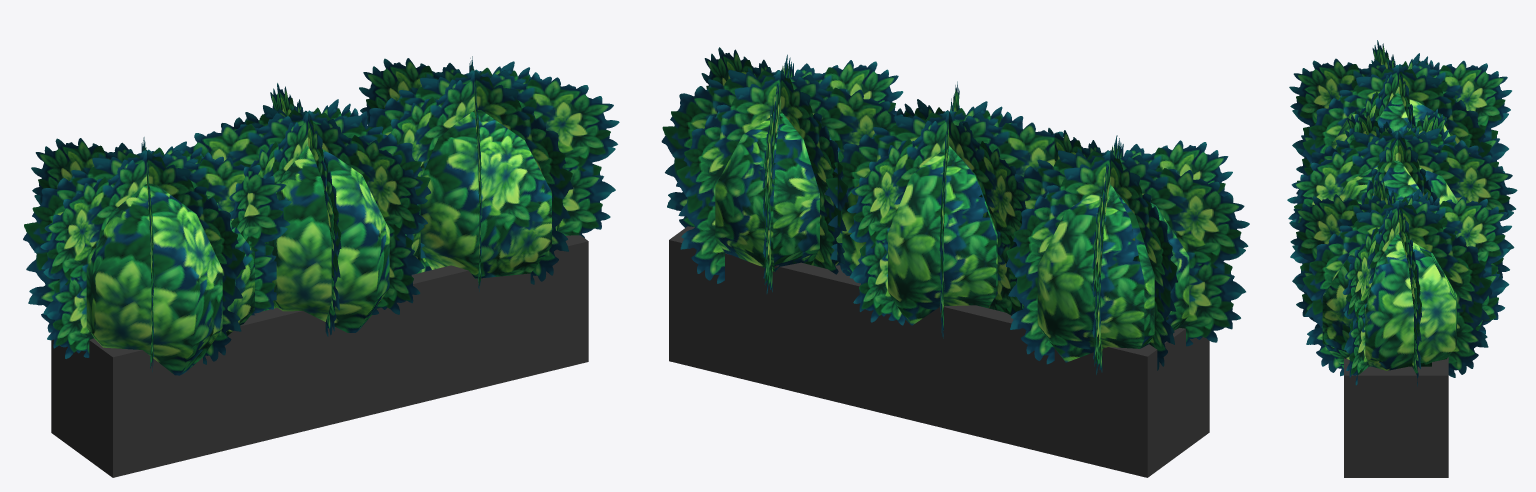
The model's file is SM_PROP_PLANT_pot_v4_01.FBX.
3 views of the same model, side by side, from view 1: azimuth 30°, elevation 25°; view 2: azimuth 150°, elevation 25°; view 3: azimuth 270°, elevation 25° (orthographic). The views are drawn at different scales.
Visible parts, largest first — view 1: SM_PROP_PLANT_pot_v4_01; view 2: SM_PROP_PLANT_pot_v4_01; view 3: SM_PROP_PLANT_pot_v4_01.
Boxes of the visible parts, x1,y1,x2,y2 form: SM_PROP_PLANT_pot_v4_01: (23, 56, 619, 477); SM_PROP_PLANT_pot_v4_01: (661, 47, 1249, 477); SM_PROP_PLANT_pot_v4_01: (1287, 40, 1517, 477).
Bounding box in the file's own units: 160 × 68.32 × 77.31.
